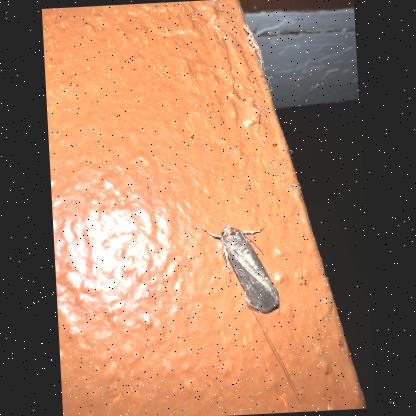Fall Armyworm Moth: (198, 213, 284, 320)
